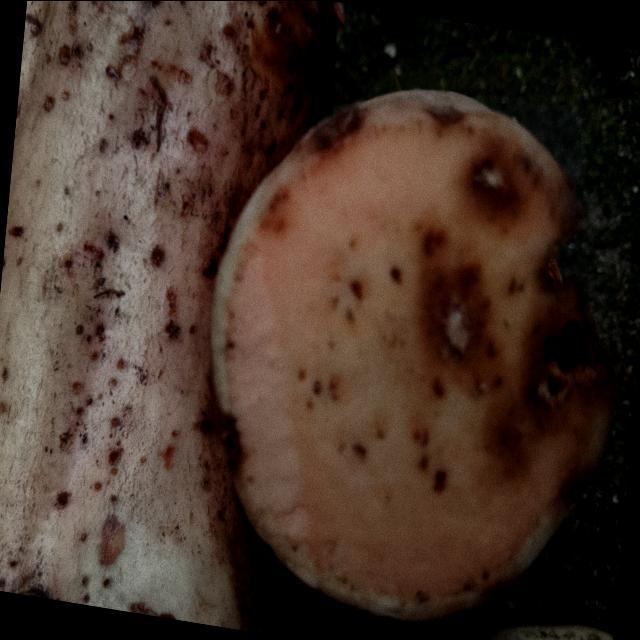Sick Sweet Potato_Tuber Rot: (212, 88, 616, 620)
